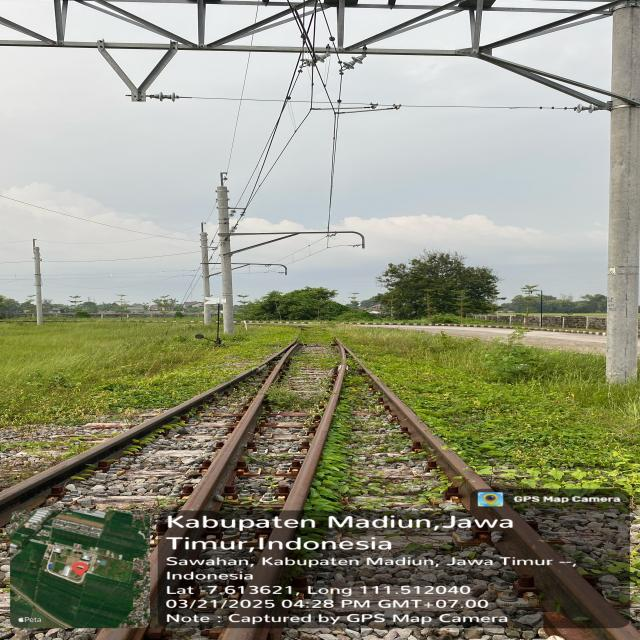rail-detection: (0, 341, 302, 634), (349, 352, 640, 640), (249, 341, 347, 589), (222, 606, 281, 640)
